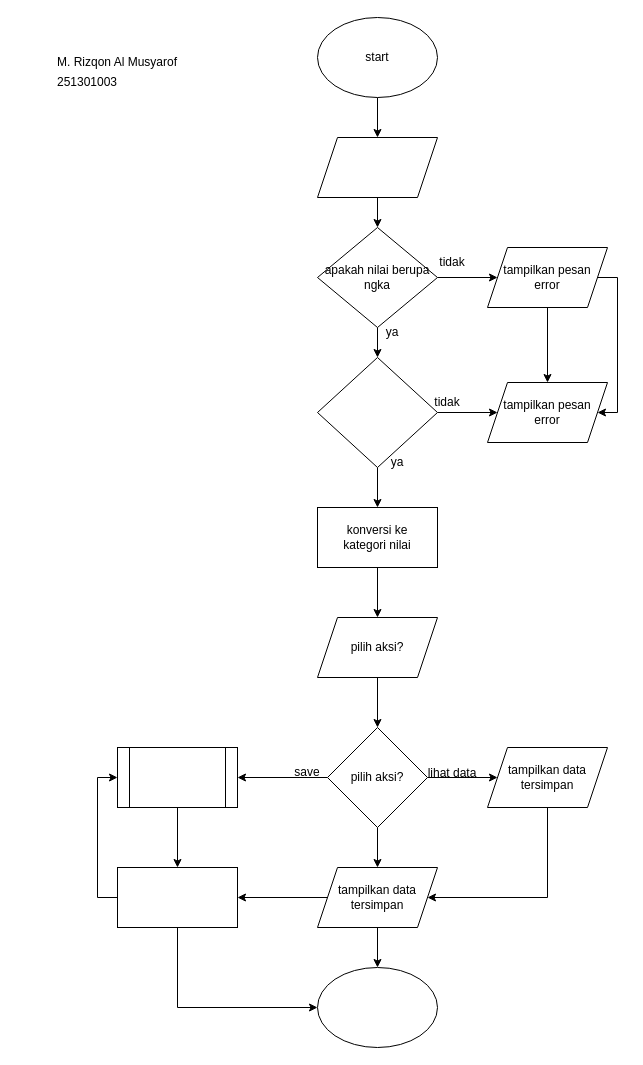
Some shapes in this 643 by 1065 pixel diagram are drawn without their labels. The box of each missing label's shape, as (x1, y1, x2, y2) in pixels:
apakah nilai antara 0-100: (316, 356, 438, 468)
end: (316, 966, 438, 1048)
masukan nama: (316, 136, 438, 198)
reset: (116, 866, 238, 928)
simpan data ke list: (116, 746, 238, 808)
